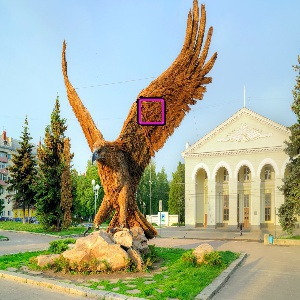square: (135, 95, 167, 128)
